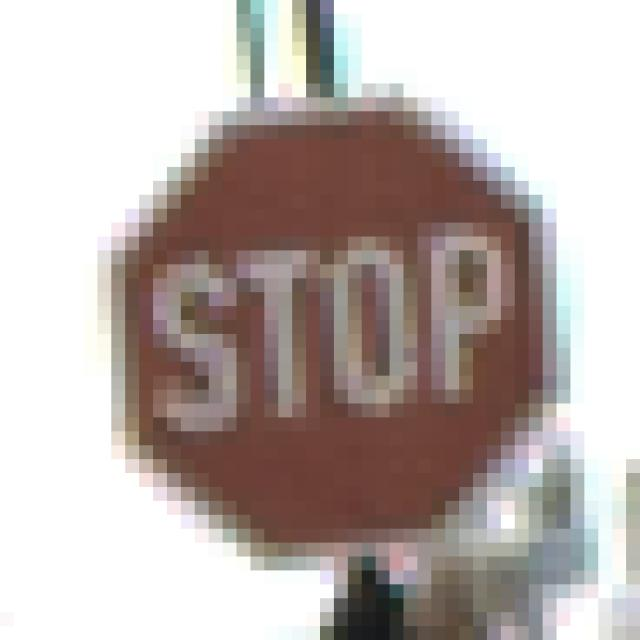STOP: (85, 85, 572, 572)
